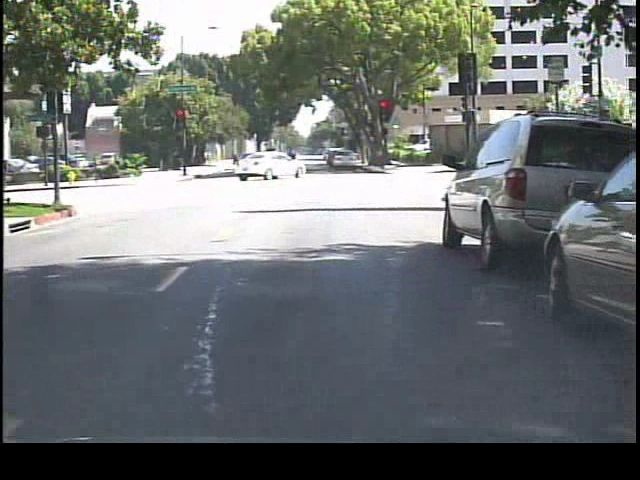person: (285, 141, 302, 176)
